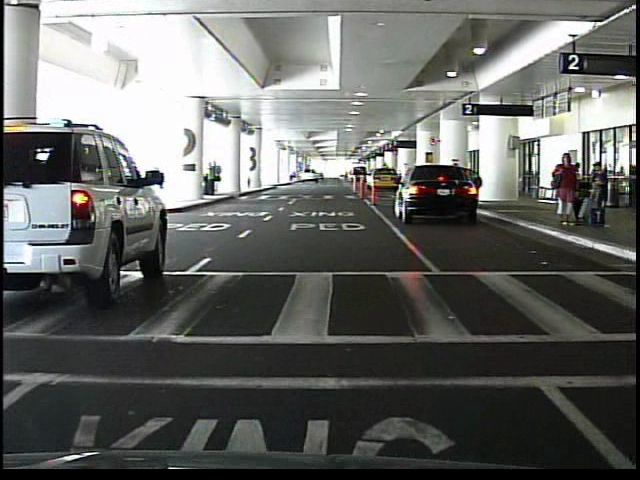person: (550, 152, 582, 227), (587, 161, 609, 228), (205, 161, 217, 198), (571, 161, 582, 200), (219, 164, 220, 196)
